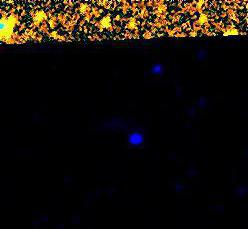star: (187, 6, 217, 36)
